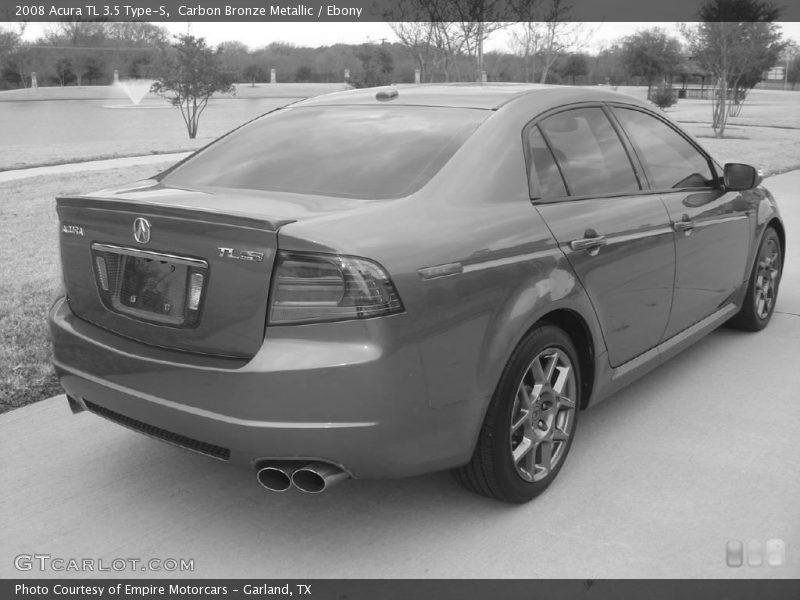car: (45, 79, 795, 507)
